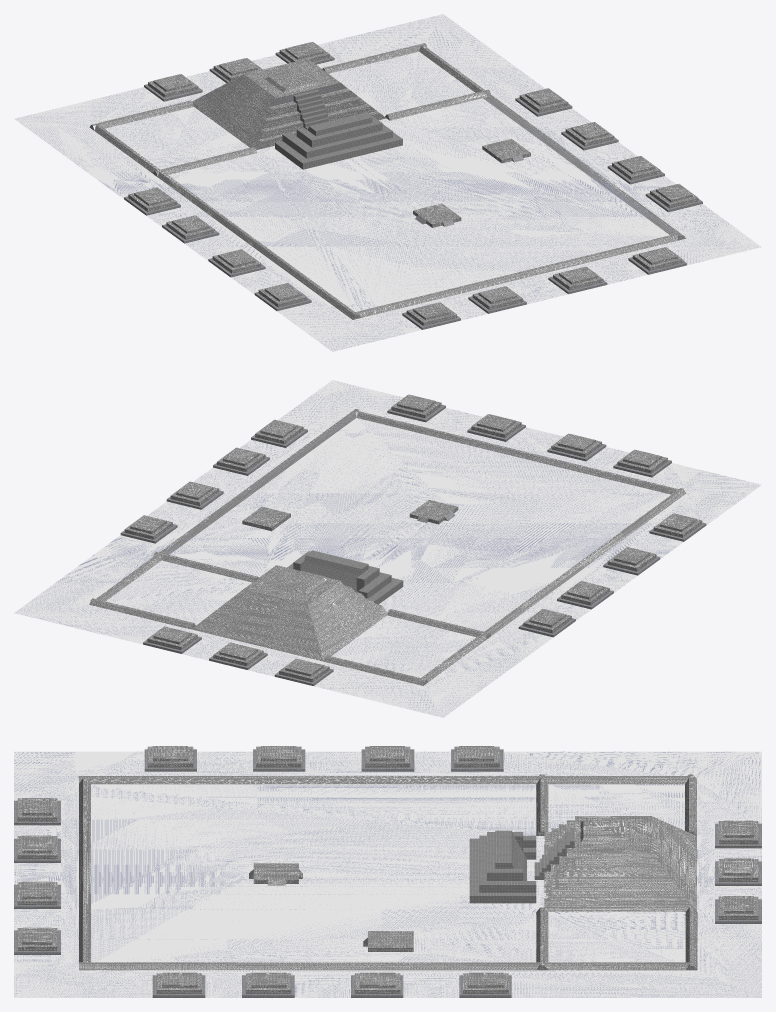
Rendered from Templo.fbx.
The picture shows the model from 3 angles, top to bottom: view 1: azimuth 30°, elevation 25°; view 2: azimuth 150°, elevation 25°; view 3: azimuth 270°, elevation 25°; orthographic projection. The views are drawn at different scales.
Visible parts, largest first — view 1: Model, G_95255905_d3bc_4a02_82f1_92b90e31794d1; view 2: Model, G_95255905_d3bc_4a02_82f1_92b90e31794d1; view 3: Model, G_95255905_d3bc_4a02_82f1_92b90e31794d1.
Boxes of the visible parts, <box> form: Model: <box>14,14,761,351</box>; G_95255905_d3bc_4a02_82f1_92b90e31794d1: <box>275,112,402,169</box>; Model: <box>14,380,761,717</box>; G_95255905_d3bc_4a02_82f1_92b90e31794d1: <box>287,550,403,604</box>; Model: <box>14,746,761,997</box>; G_95255905_d3bc_4a02_82f1_92b90e31794d1: <box>469,830,536,903</box>.
Size of the model in its own units: 40733 by 3365 by 52309.
